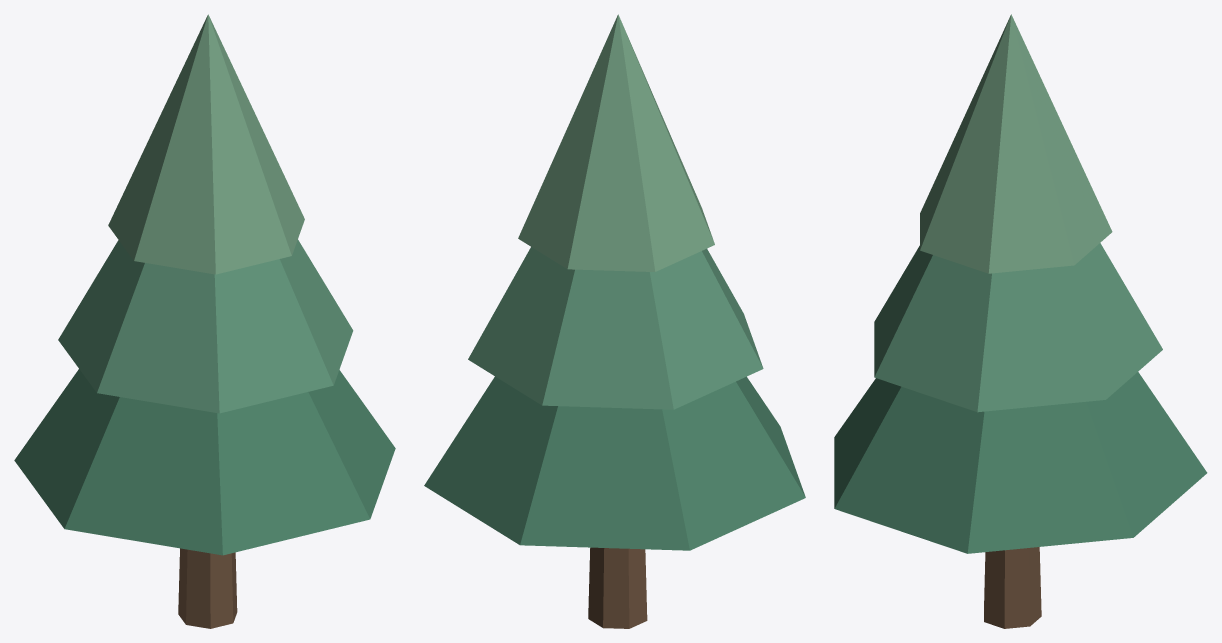
The model's file is tree.glb.
The picture shows the model from 3 angles, left to right: view 1: azimuth 30°, elevation 25°; view 2: azimuth 150°, elevation 25°; view 3: azimuth 270°, elevation 25°; orthographic projection.
Visible parts, largest first — view 1: Crown_0, Crown_1, Crown_2, Trunk; view 2: Crown_0, Crown_1, Crown_2, Trunk; view 3: Crown_0, Crown_1, Crown_2, Trunk.
Boxes of the visible parts, x1=… form: Crown_0: x1=14, y1=369, x2=395, y2=555; Crown_1: x1=58, y1=239, x2=353, y2=413; Crown_2: x1=108, y1=14, x2=304, y2=274; Trunk: x1=178, y1=548, x2=237, y2=628; Crown_0: x1=424, y1=376, x2=805, y2=550; Crown_1: x1=468, y1=247, x2=763, y2=409; Crown_2: x1=518, y1=14, x2=714, y2=271; Trunk: x1=588, y1=547, x2=647, y2=628; Crown_0: x1=834, y1=372, x2=1207, y2=553; Crown_1: x1=874, y1=243, x2=1162, y2=412; Crown_2: x1=920, y1=14, x2=1112, y2=273; Trunk: x1=984, y1=547, x2=1041, y2=628.
Size of the model in its own units: 3.02 by 5.25 by 2.95.
